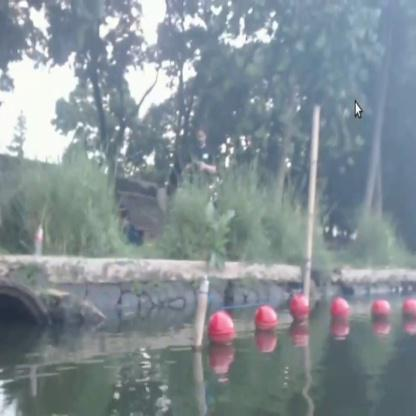red_buoy: (208, 308, 232, 348), (330, 295, 350, 328), (290, 290, 310, 322), (256, 306, 276, 337), (370, 300, 388, 324), (404, 298, 415, 324)
